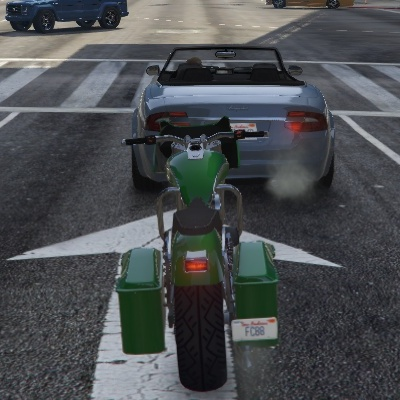on: (180, 246, 216, 278)
